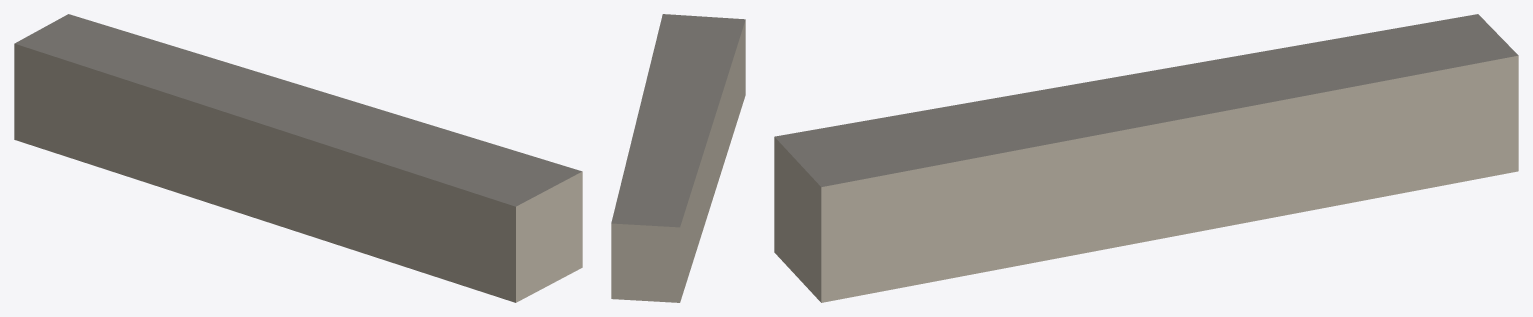
The picture shows the model from 3 angles, left to right: view 1: azimuth 30°, elevation 25°; view 2: azimuth 150°, elevation 25°; view 3: azimuth 270°, elevation 25°; orthographic projection. The views are drawn at different scales.
Parts seen in each view (by area): view 1: HP-w143670115; view 2: HP-w143670115; view 3: HP-w143670115.
Part boxes in pixels (bbox=[...]): HP-w143670115: bbox=[14, 14, 582, 302]; HP-w143670115: bbox=[611, 14, 745, 302]; HP-w143670115: bbox=[774, 14, 1518, 302].
Bounding box in the file's own units: 57.75 × 18 × 105.
